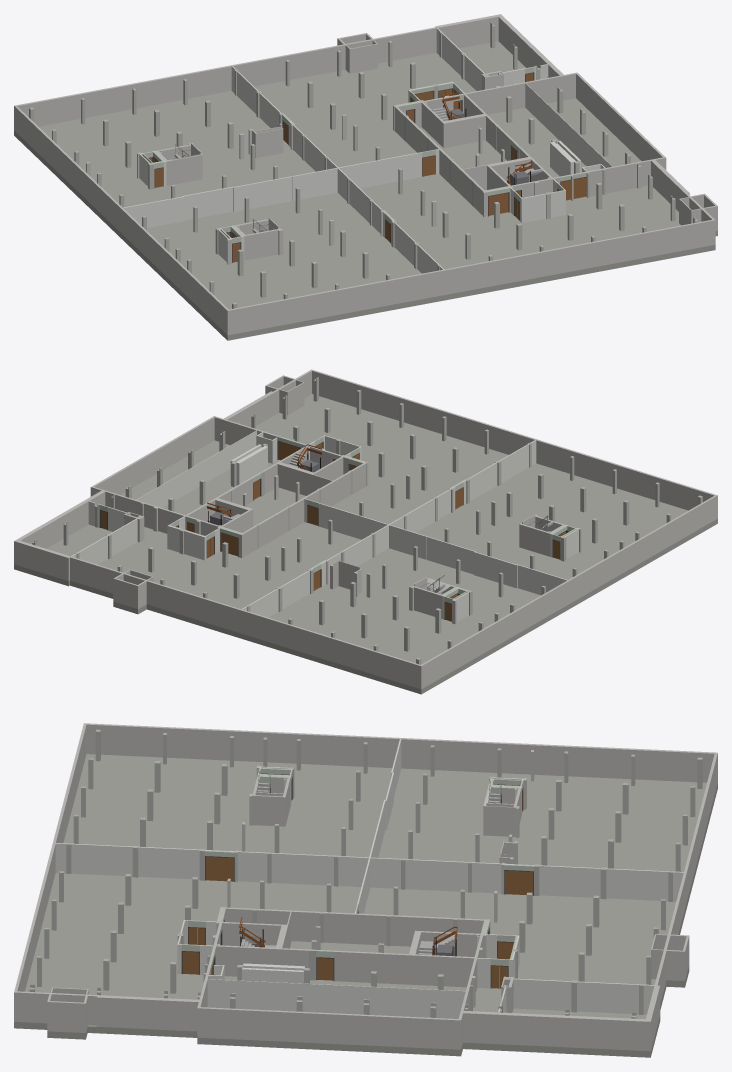
Rendered from tib_ug2.glb.
3 views of the same model, one above another, from view 1: azimuth 30°, elevation 25°; view 2: azimuth 150°, elevation 25°; view 3: azimuth 270°, elevation 25° (orthographic). The views are drawn at different scales.
Visible parts, largest first — view 1: tib_ug2__TIB Farbe 196-196-190; view 2: tib_ug2__TIB Farbe 196-196-190; view 3: tib_ug2__TIB Farbe 196-196-190.
Boxes of the visible parts, box(x1,y1,x2,y2) form: tib_ug2__TIB Farbe 196-196-190: box(14, 14, 717, 340); tib_ug2__TIB Farbe 196-196-190: box(14, 369, 717, 694); tib_ug2__TIB Farbe 196-196-190: box(14, 723, 717, 1057).
Size of the model in its own units: 58.82 by 4.53 by 58.6.
1 material, 1 textured.
